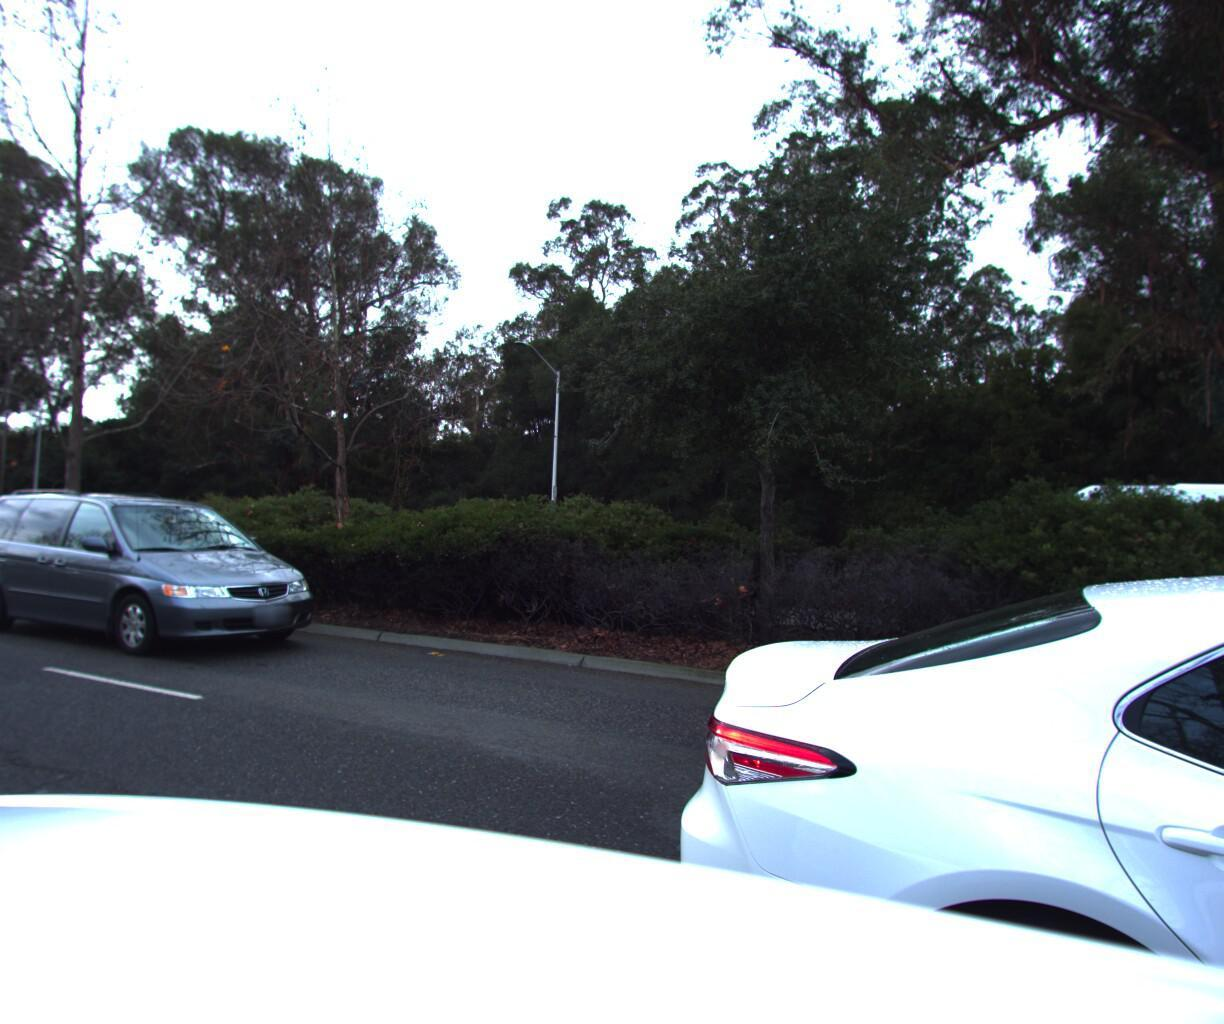bus: (1028, 483, 1224, 676)
car: (0, 487, 333, 674)
